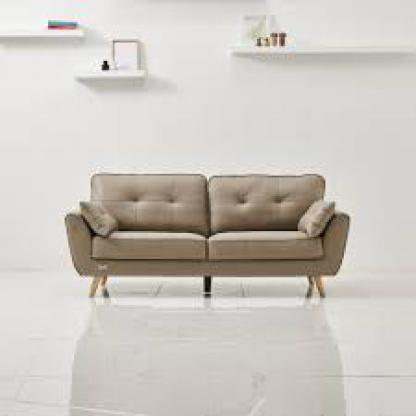sofa: (57, 168, 364, 300)
